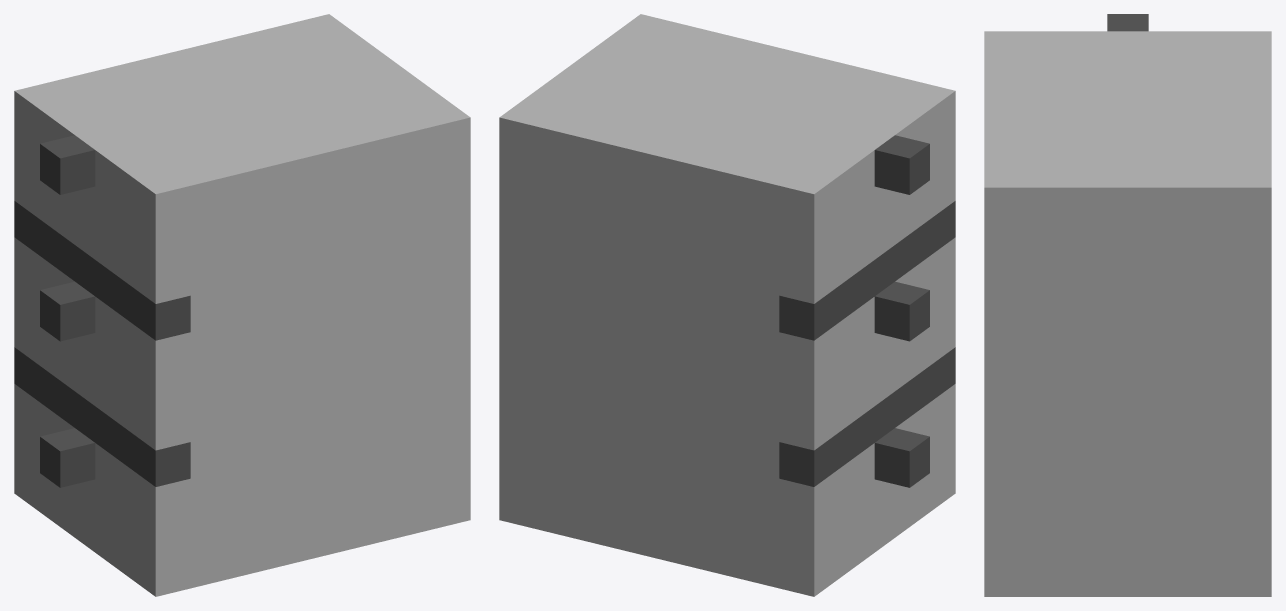
Rendered from small wardrope.obj.
3 renders of one model, left to right at view 1: azimuth 30°, elevation 25°; view 2: azimuth 150°, elevation 25°; view 3: azimuth 270°, elevation 25°, orthographic.
Size of the model in its own units: 1 by 1.1 by 0.7.
1 material, 1 textured.
